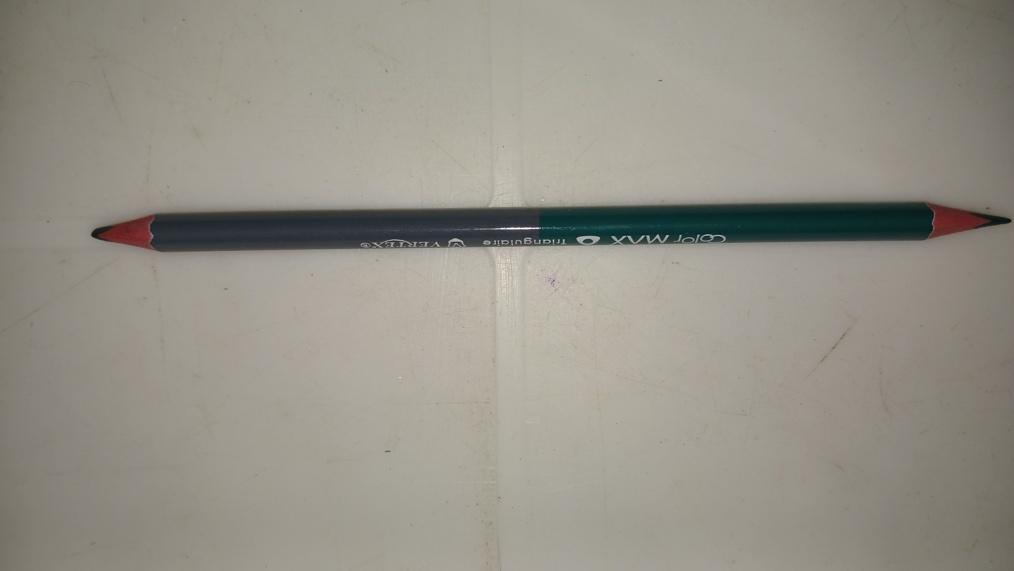Pencil: (90, 206, 1010, 252)
